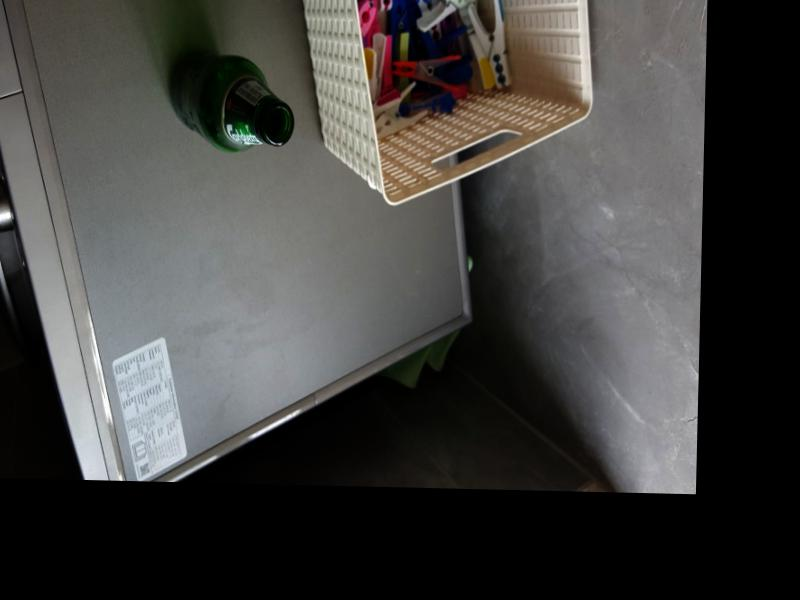Beer: (165, 51, 294, 147)
